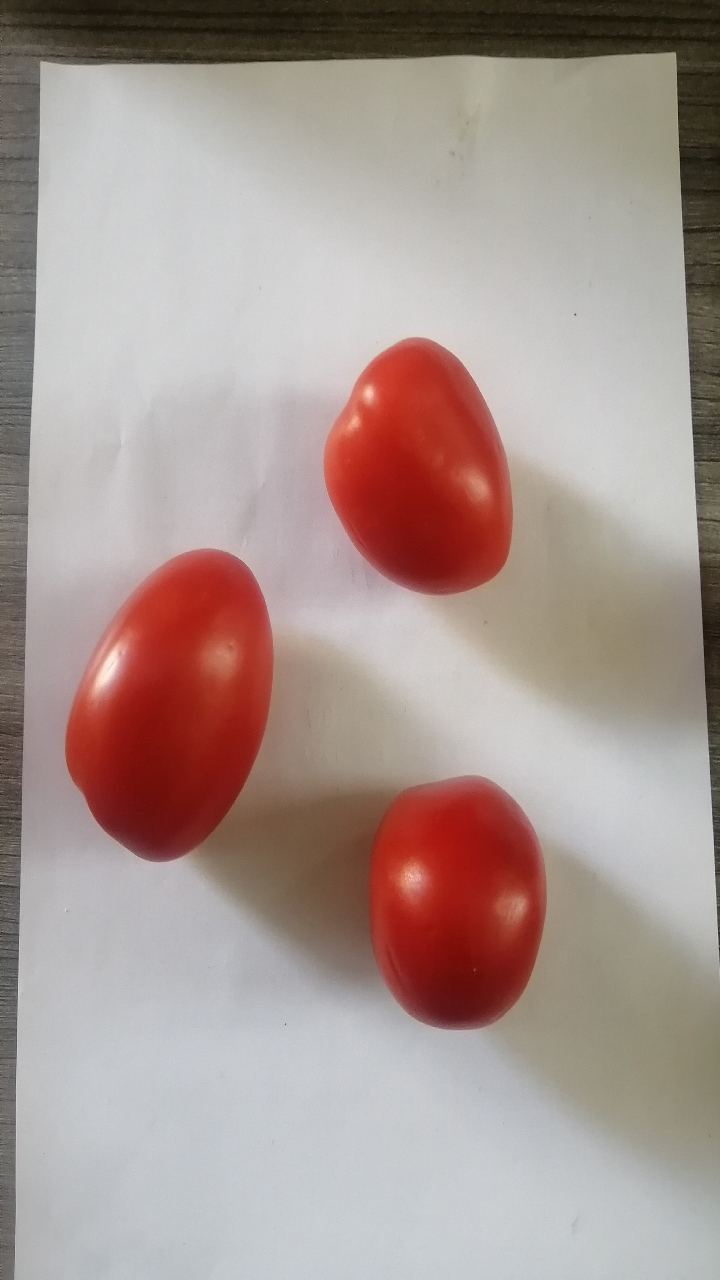tomateRojo: (38, 520, 289, 883), (298, 314, 543, 622), (348, 755, 568, 1049)
